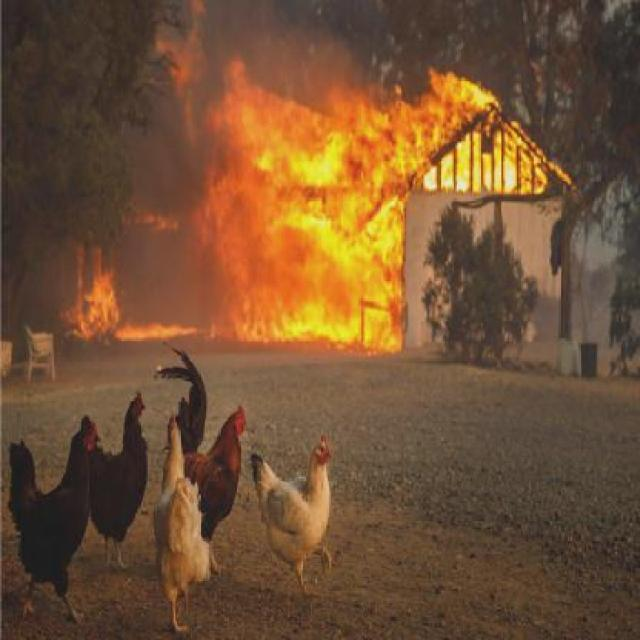Fire: (203, 23, 588, 359), (63, 245, 202, 348)
